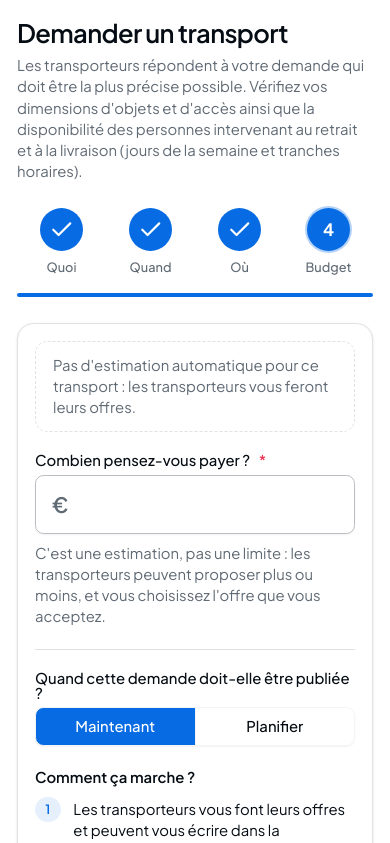
the Budget step › writes cents the French way, whichever separator was typed
In the field labelled "Combien pensez-vous payer ?": coordinates (195, 504) [35, 475, 355, 534], type "40.5"
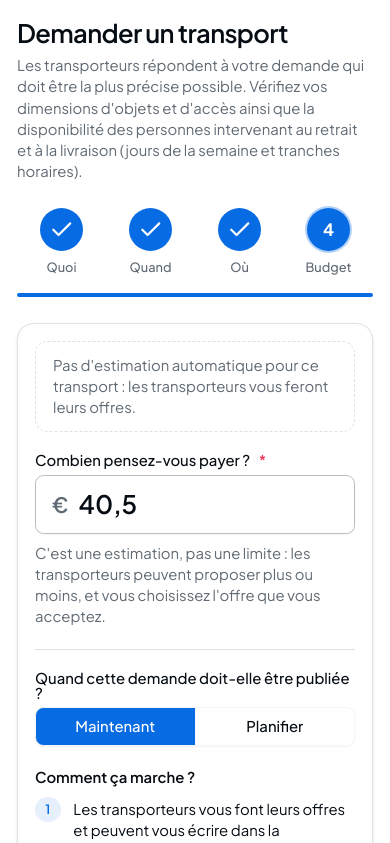
expect the field labelled "Combien pensez-vous payer ?" holds "40,5": met, box [35, 475, 355, 534]
